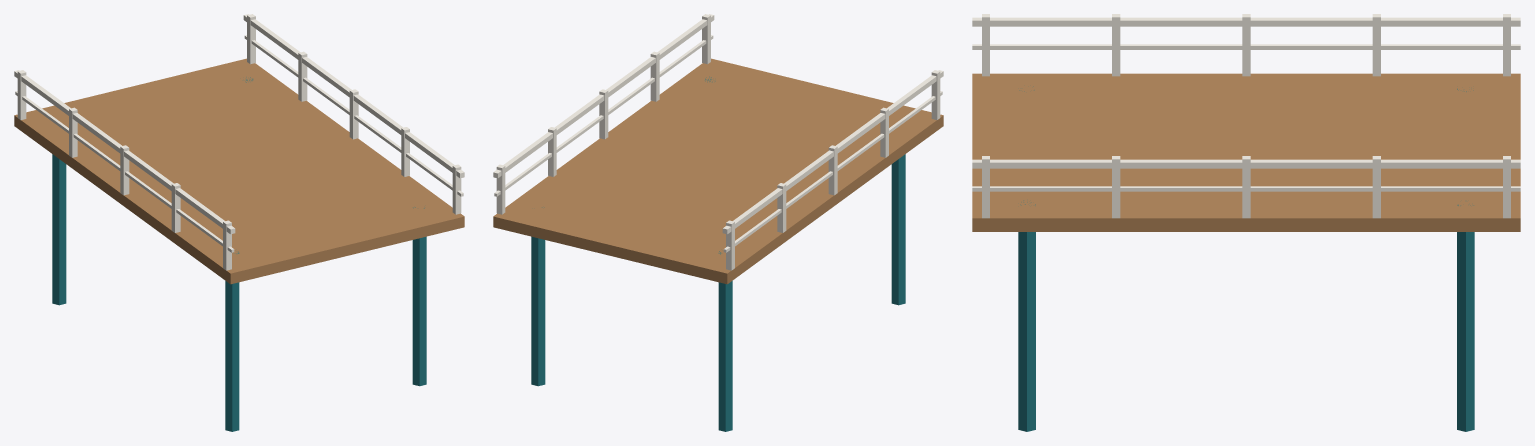
Rendered from lod_pier_deck.glb.
The picture shows the model from 3 angles, left to right: view 1: azimuth 30°, elevation 25°; view 2: azimuth 150°, elevation 25°; view 3: azimuth 270°, elevation 25°; orthographic projection. The views are drawn at different scales.
Parts seen in each view (by area): view 1: lod_pier_deck; view 2: lod_pier_deck; view 3: lod_pier_deck.
Boxes of the visible parts, x1,y1,x2,y2 form: lod_pier_deck: (14,14,464,431); lod_pier_deck: (493,14,943,431); lod_pier_deck: (972,14,1520,431).
Size of the model in its own units: 5.02 by 4.55 by 8.
